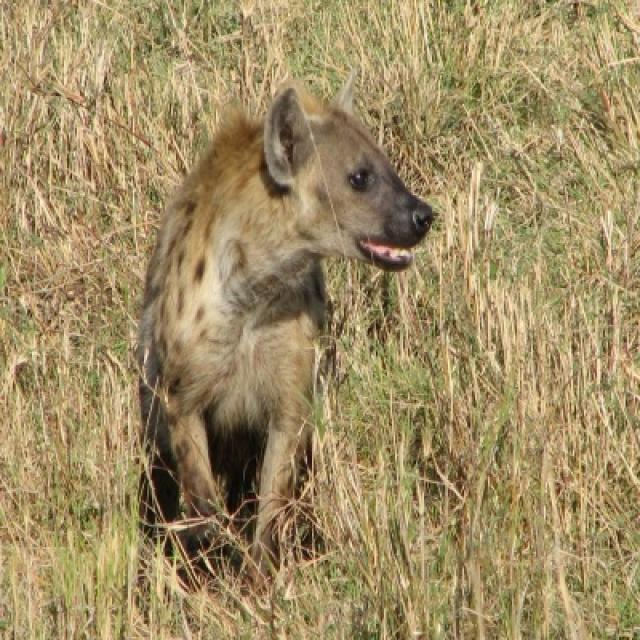hyena: (133, 85, 437, 590)
